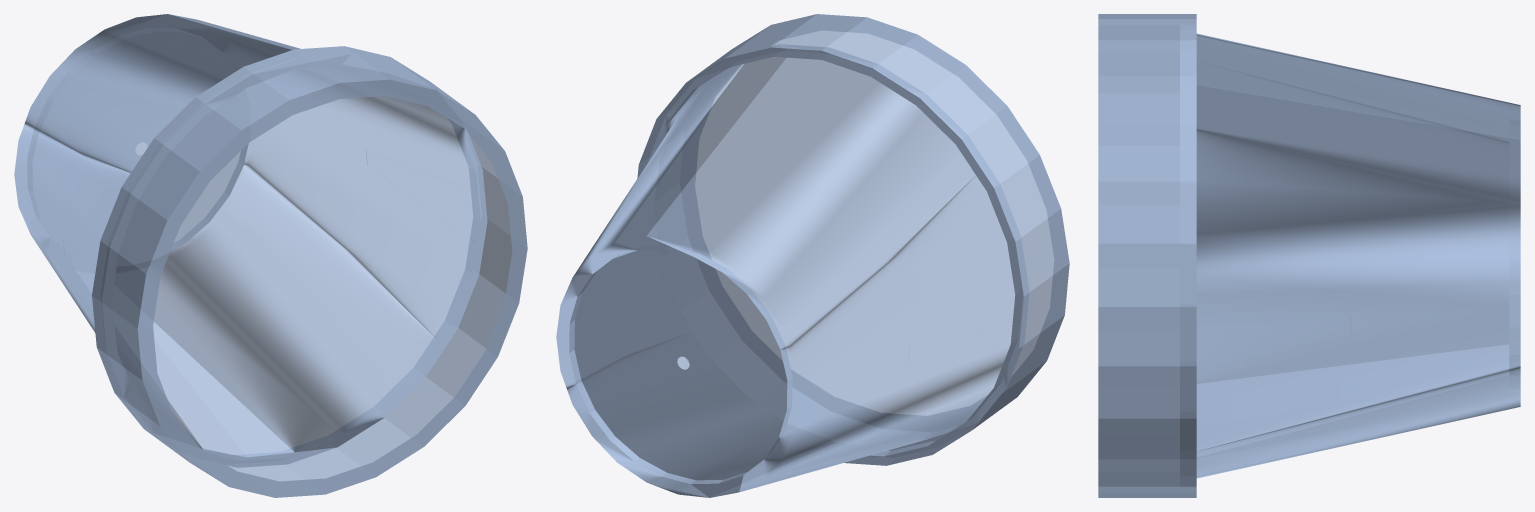
Rendered from model_align.obj.
3 renders of one model, left to right at view 1: azimuth 30°, elevation 25°; view 2: azimuth 150°, elevation 25°; view 3: azimuth 270°, elevation 25°, orthographic. The views are drawn at different scales.
Bounding box in the file's own units: 0.0883 × 0.0883 × 0.077.
